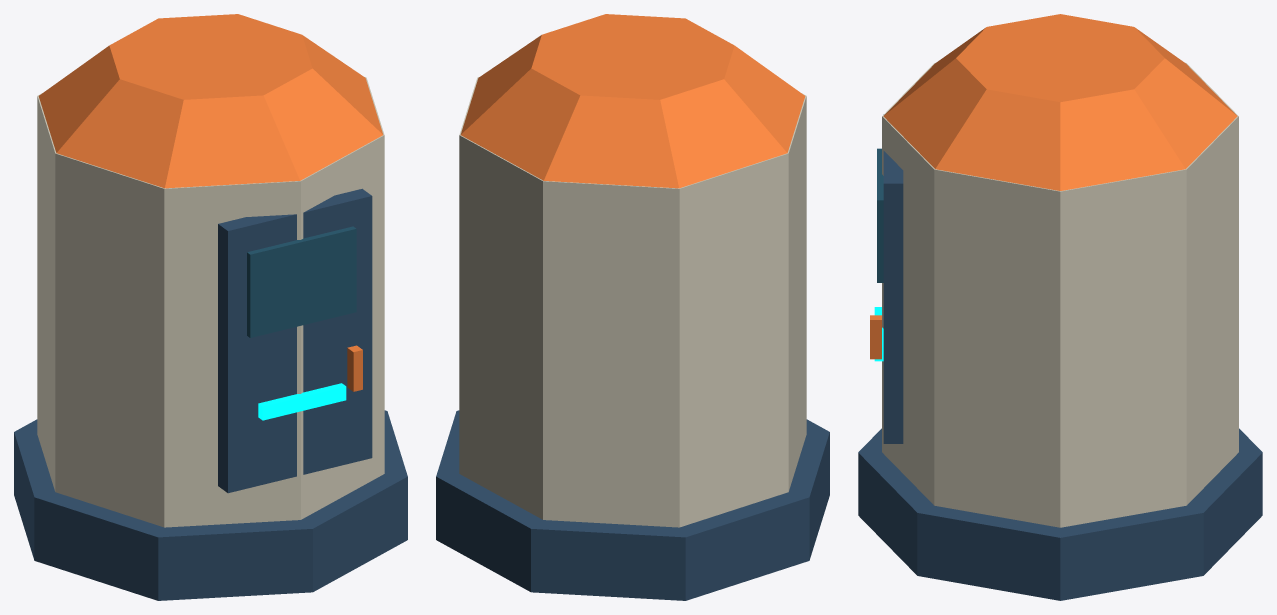
The model's file is rescue-pod.glb.
3 renders of one model, left to right at view 1: azimuth 30°, elevation 25°; view 2: azimuth 150°, elevation 25°; view 3: azimuth 270°, elevation 25°, orthographic.
Parts seen in each view (by area): view 1: pod_body, pod_cap, pod_base, pod_hatch, pod_window, pod_status, pod_handle; view 2: pod_body, pod_cap, pod_base; view 3: pod_body, pod_cap, pod_base, pod_hatch, pod_window, pod_handle.
Boxes of the visible parts, x1,y1,x2,y2 form: pod_body: (37, 77, 384, 527); pod_cap: (38, 14, 383, 188); pod_base: (14, 410, 407, 600); pod_hatch: (218, 188, 372, 493); pod_window: (247, 226, 356, 337); pod_status: (258, 383, 346, 420); pod_handle: (347, 345, 362, 391); pod_body: (459, 77, 806, 527); pod_cap: (460, 14, 805, 188); pod_base: (436, 410, 829, 600); pod_body: (882, 62, 1238, 527); pod_cap: (883, 14, 1237, 190); pod_base: (858, 428, 1262, 600); pod_hatch: (883, 114, 903, 443); pod_window: (877, 148, 883, 282); pod_handle: (870, 315, 881, 359).
Size of the model in its own units: 1.86 by 2.32 by 1.86.
